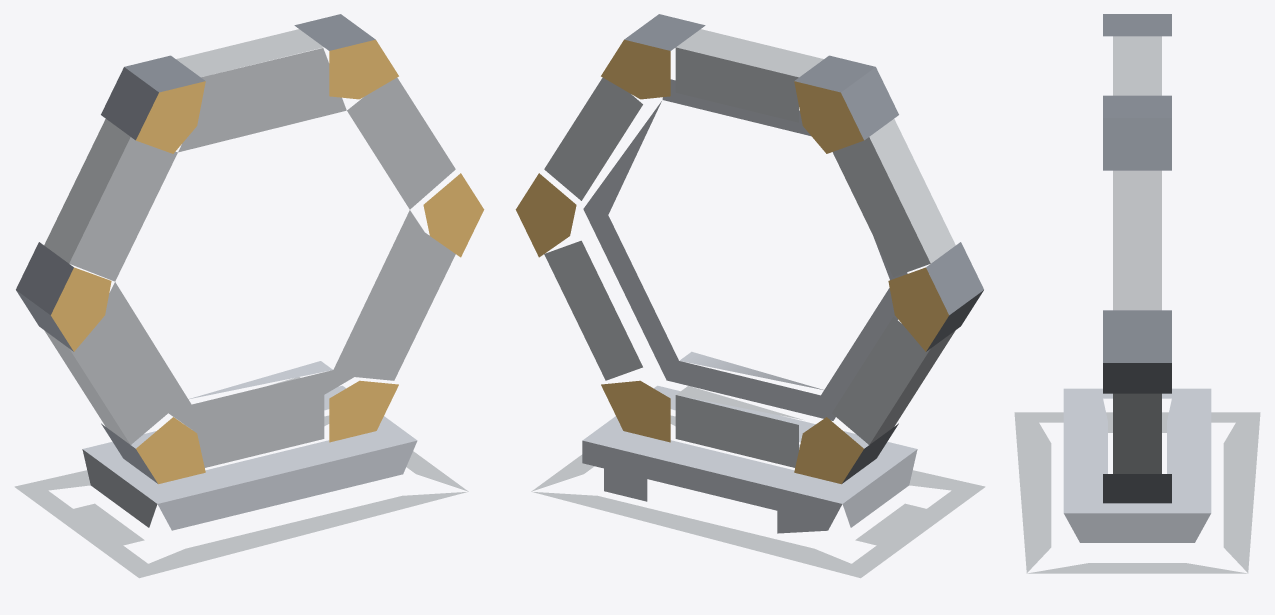
File: gate_complex_lod1.glb
The picture shows the model from 3 angles, left to right: view 1: azimuth 30°, elevation 25°; view 2: azimuth 150°, elevation 25°; view 3: azimuth 270°, elevation 25°; orthographic projection.
Parts seen in each view (by area): view 1: gate_complex.001; view 2: gate_complex.001; view 3: gate_complex.001.
Boxes of the visible parts, x1,y1,x2,y2 form: gate_complex.001: [14, 14, 484, 578]; gate_complex.001: [515, 14, 985, 578]; gate_complex.001: [1014, 14, 1260, 573].
Bounding box in the file's own units: 1 × 1.01 × 0.5.
